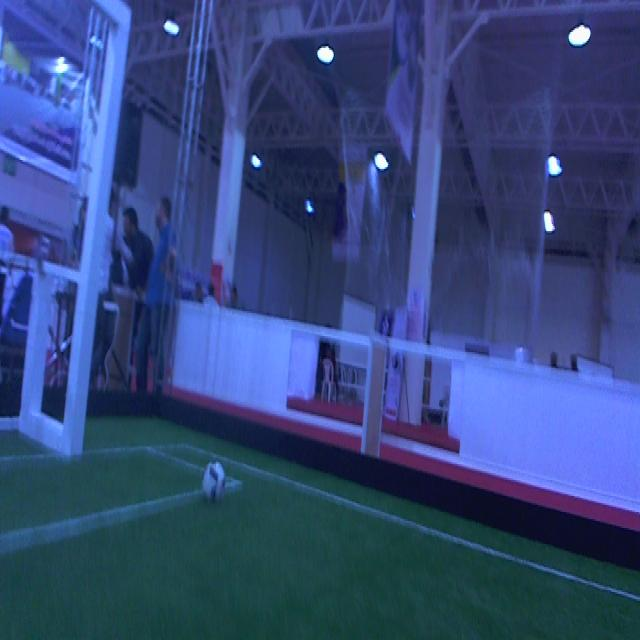ball: (201, 459, 227, 505)
goalpost: (55, 7, 139, 464)
